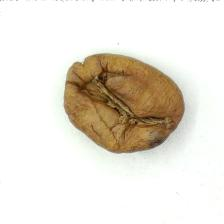NG: (76, 62, 163, 141)
